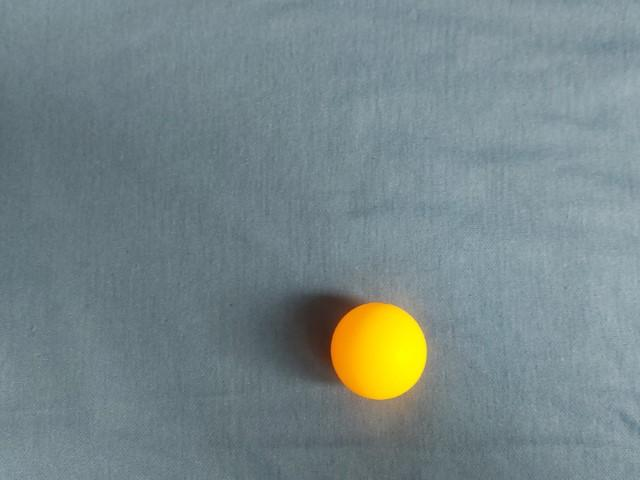oball: (201, 73, 317, 188)
